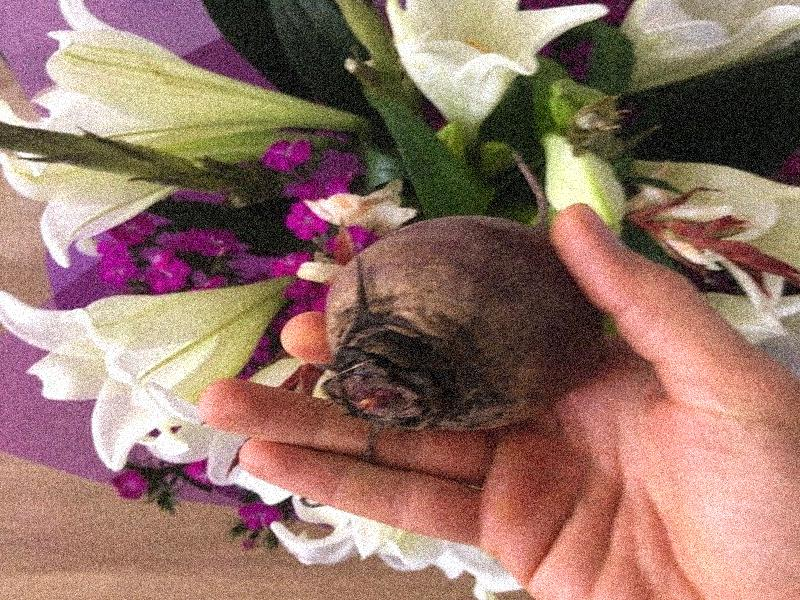Beet: (324, 148, 603, 431)
